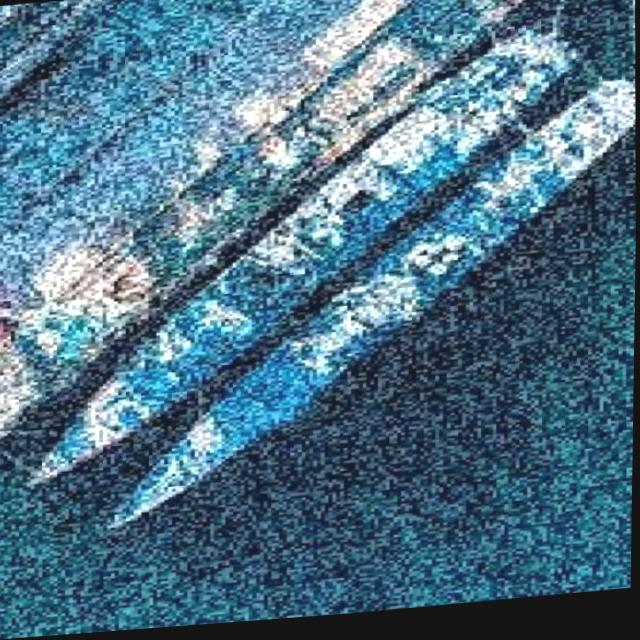ship2: (27, 28, 579, 486), (107, 92, 635, 526)
